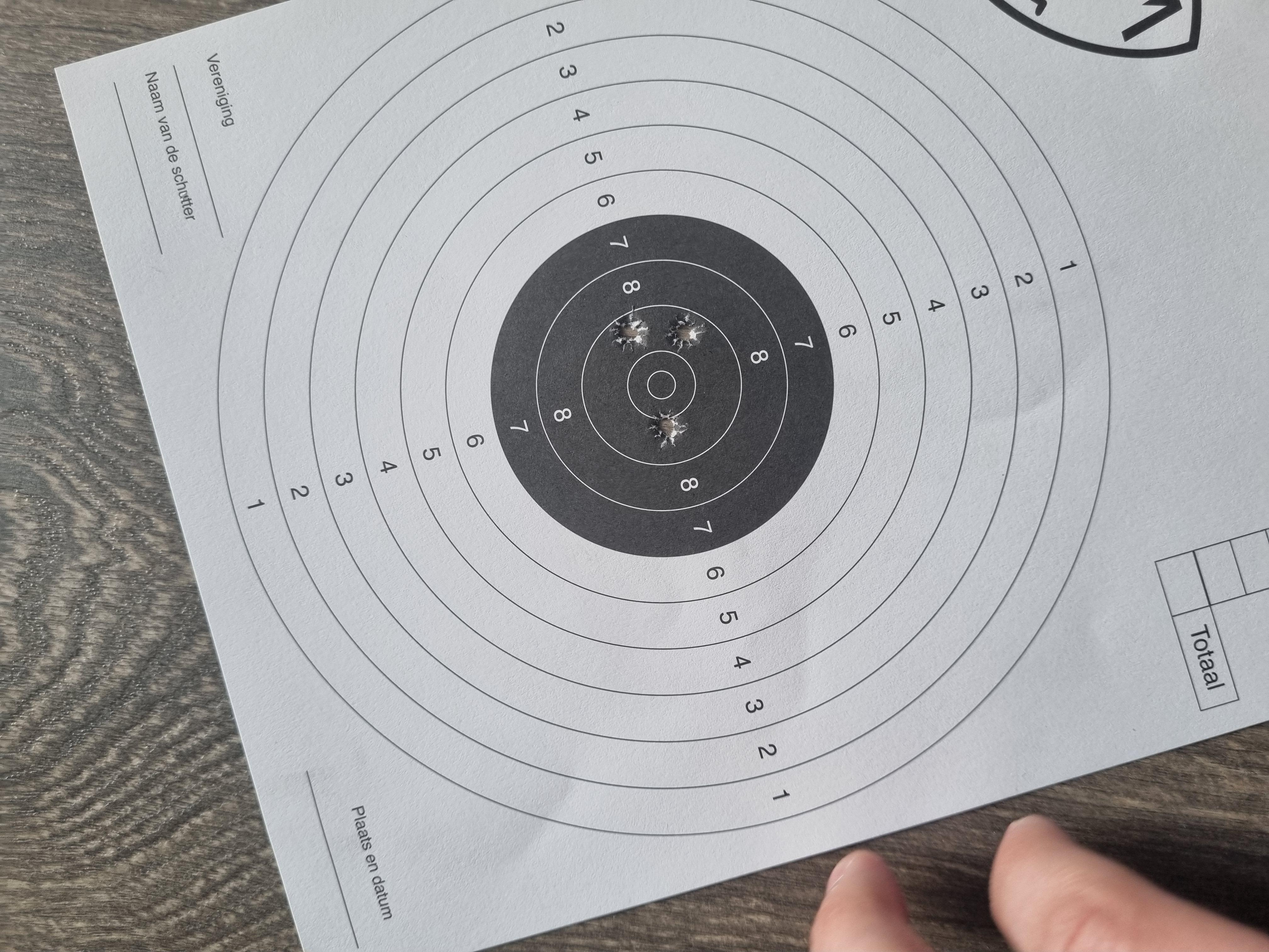hole: (798, 457, 862, 487), (801, 500, 852, 530), (671, 487, 724, 515)
